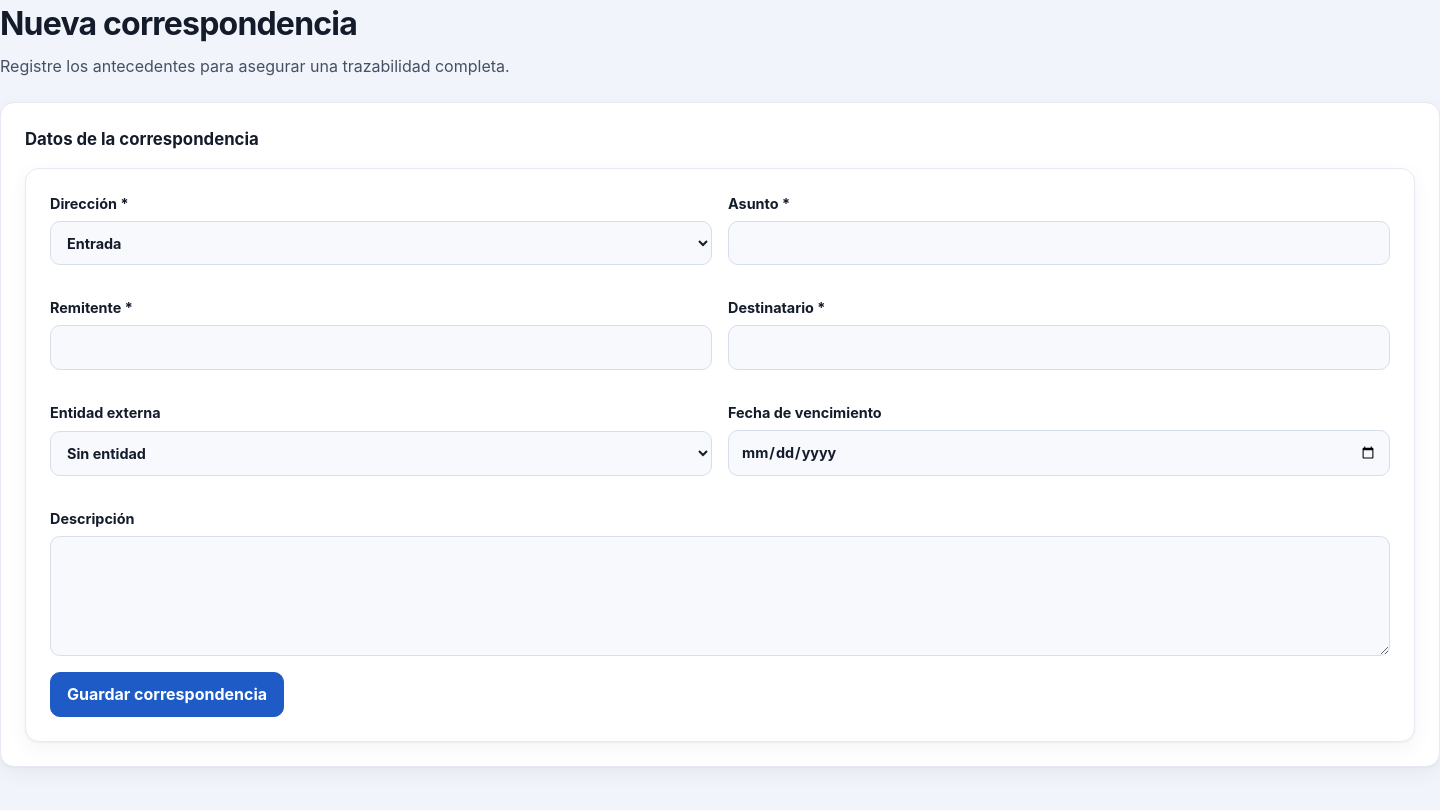
CorrespondenceCreatePage › muestra error al fallar creacion
This screenshot has width=1440, height=810.
Type "Nueva Correspondencia" into the field labelled "Asunto *" at (1059, 243), box x1=728 y1=221 x2=1390 y2=265
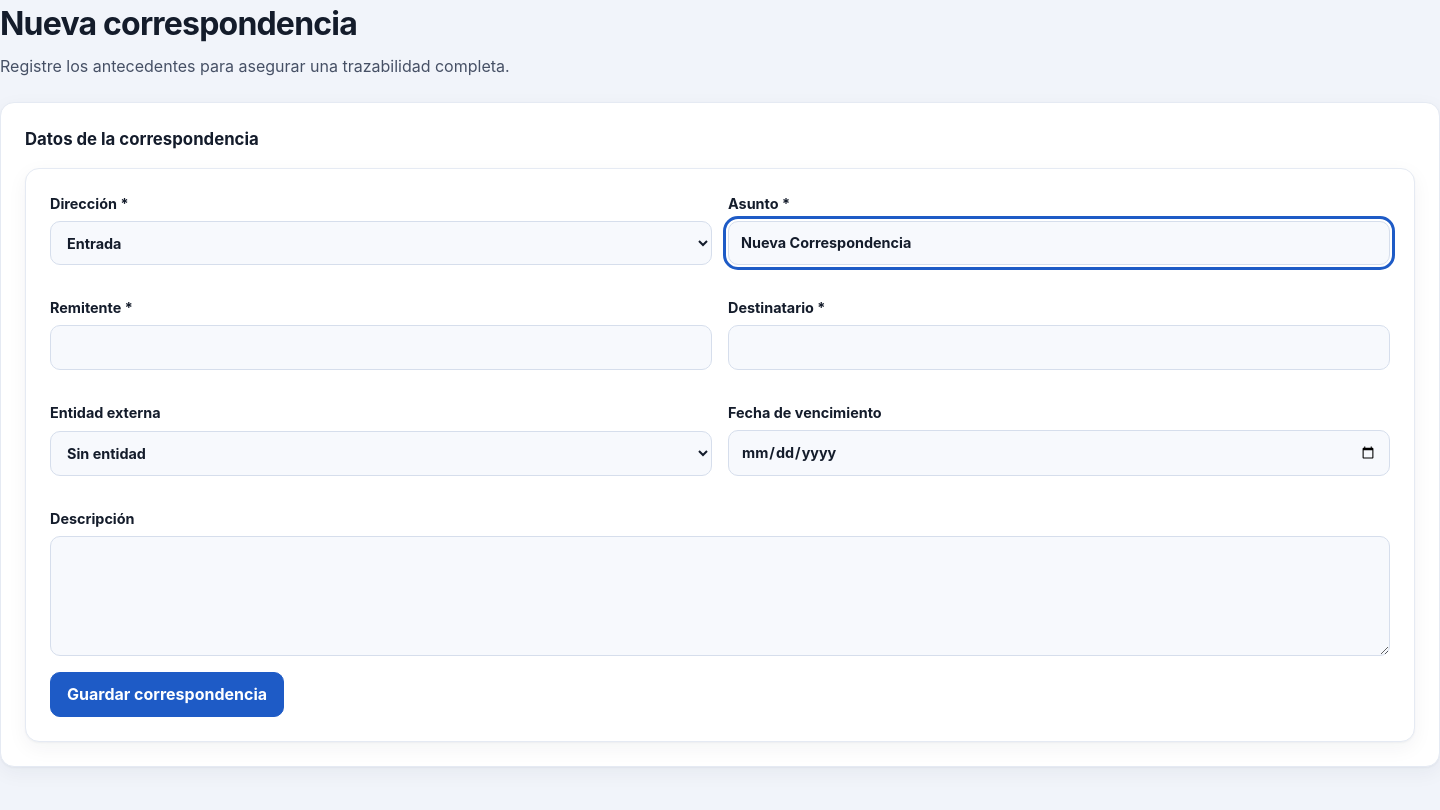
Type "Remitente Test" into the field labelled "Remitente *" at (381, 347), box x1=50 y1=325 x2=712 y2=370
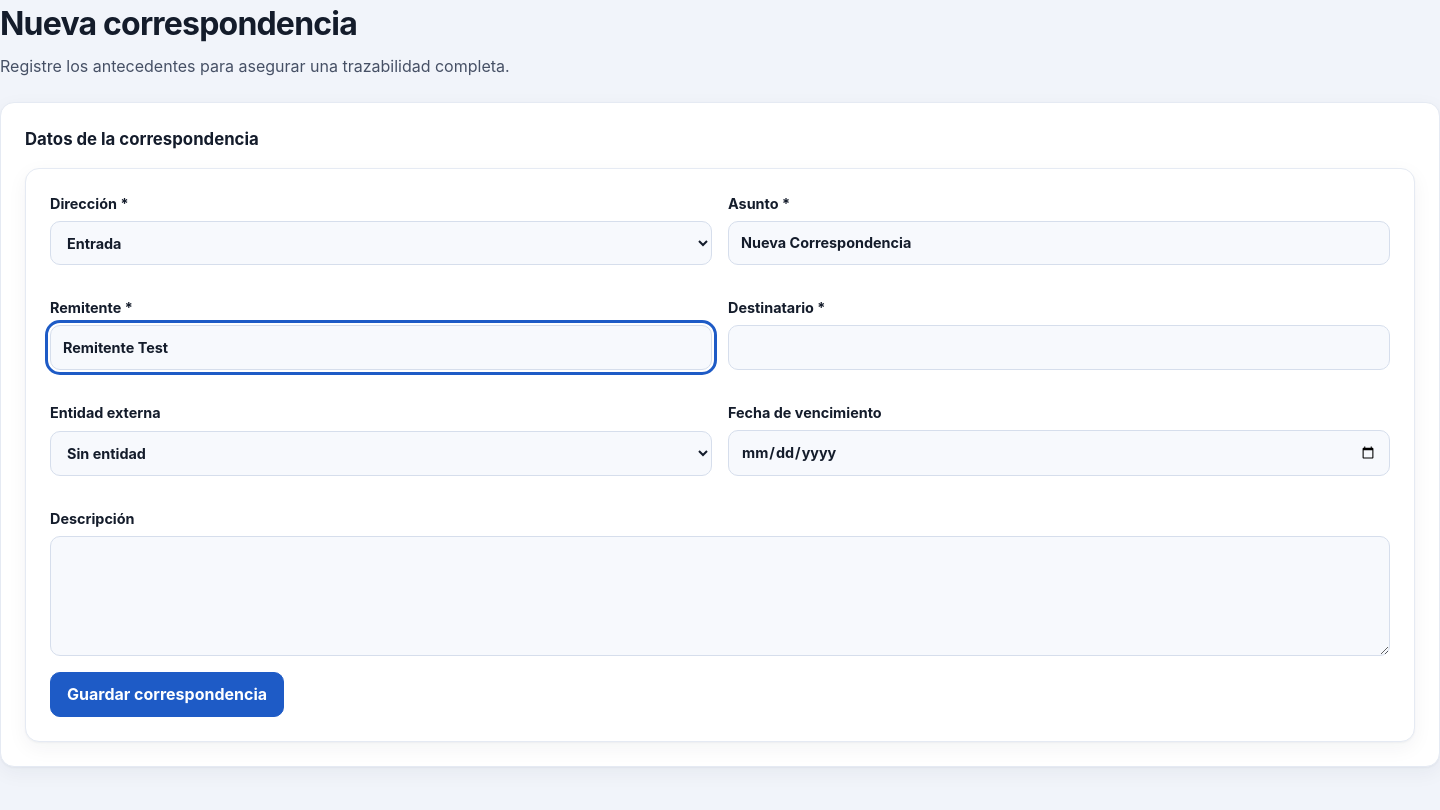
Type "Destinatario Test" into the field labelled "Destinatario *" at (1059, 347), box x1=728 y1=325 x2=1390 y2=370
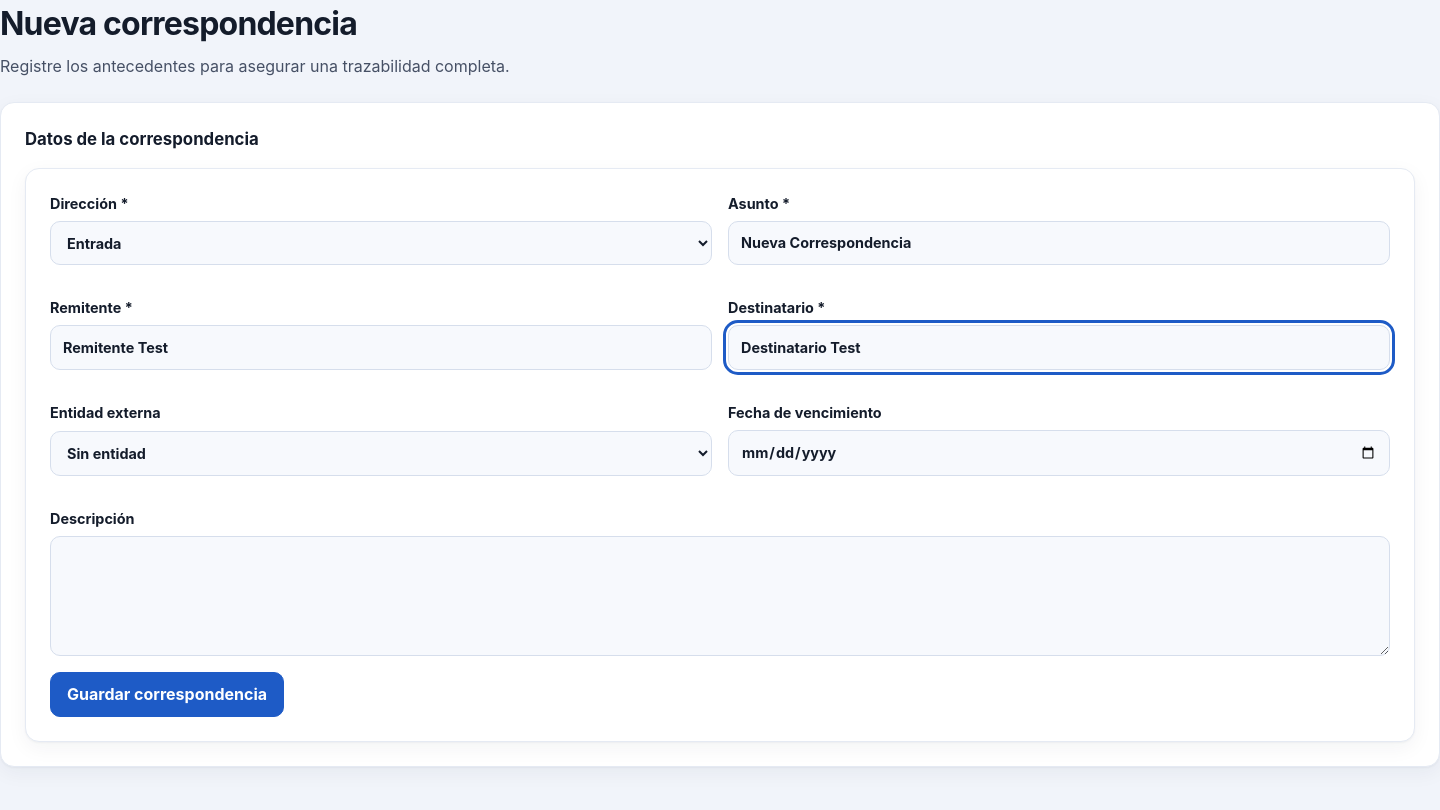
Click the button "Guardar correspondencia" at (167, 694), box x1=50 y1=672 x2=284 y2=717
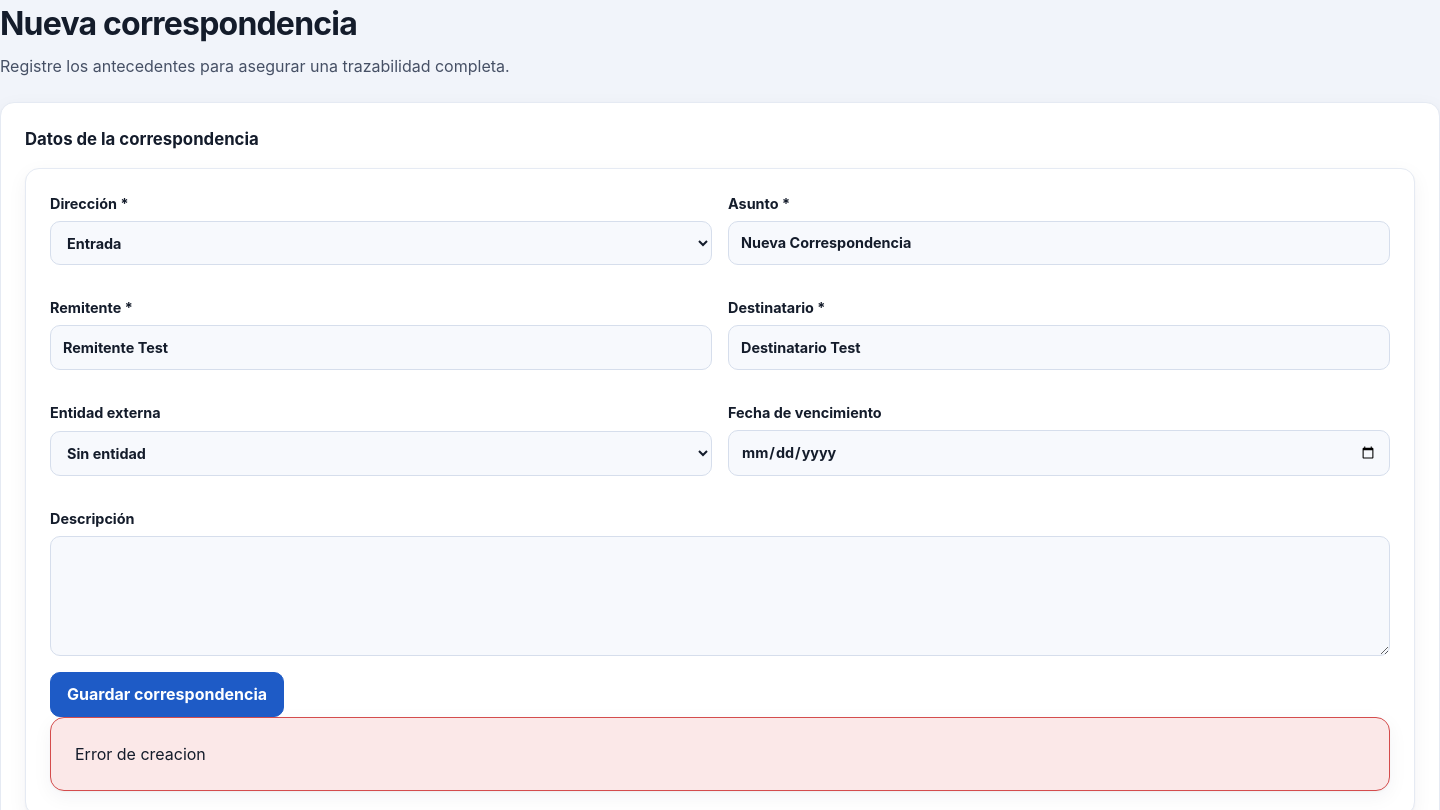
Expected: the text "Error de creacion" is shown, x1=50 y1=717 x2=1390 y2=791
